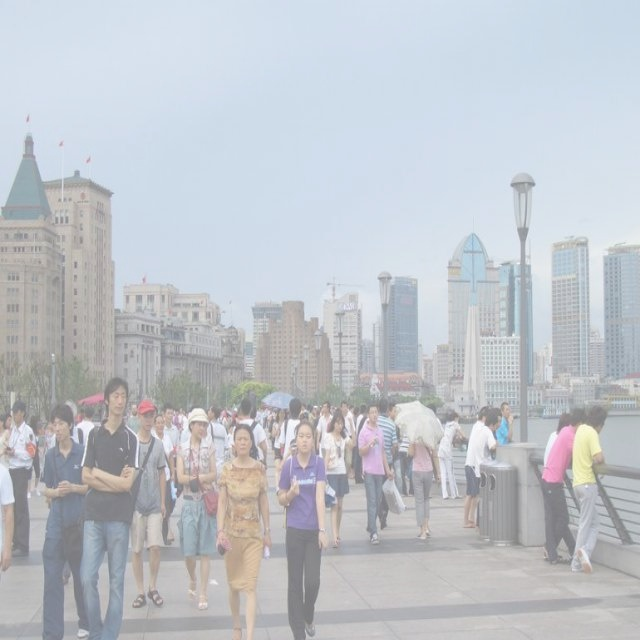pessoa: (80, 377, 142, 639), (214, 422, 272, 639), (275, 417, 331, 639), (40, 403, 92, 639), (174, 406, 222, 614), (43, 403, 90, 589), (129, 400, 169, 610), (538, 406, 588, 566), (570, 404, 608, 576), (356, 401, 395, 547), (318, 408, 358, 550), (364, 400, 398, 536), (461, 404, 494, 530), (407, 440, 442, 542), (150, 412, 176, 548), (472, 410, 499, 532), (376, 402, 400, 532), (230, 398, 270, 469), (436, 412, 466, 500), (161, 402, 182, 518), (0, 449, 14, 586), (542, 412, 574, 469), (271, 406, 290, 497), (276, 397, 302, 460), (218, 404, 242, 466), (26, 414, 42, 500), (339, 400, 356, 480), (206, 404, 230, 460), (398, 424, 415, 498), (168, 402, 194, 448), (354, 402, 368, 486), (254, 406, 278, 455), (315, 400, 334, 460), (487, 407, 504, 464), (494, 402, 514, 447), (350, 406, 362, 472), (279, 434, 298, 472), (297, 400, 321, 430), (74, 408, 88, 453), (76, 405, 96, 436), (125, 402, 141, 433), (43, 418, 56, 452), (355, 406, 369, 437), (95, 404, 109, 432), (120, 402, 131, 432), (422, 401, 437, 418), (3, 412, 14, 434), (2, 412, 14, 430), (346, 402, 356, 420), (150, 404, 159, 424), (298, 412, 310, 422), (426, 489, 434, 500)
